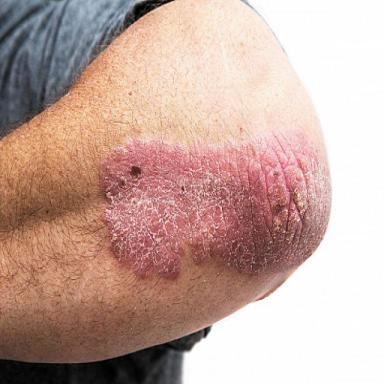Psoriasis: (102, 131, 331, 276)
